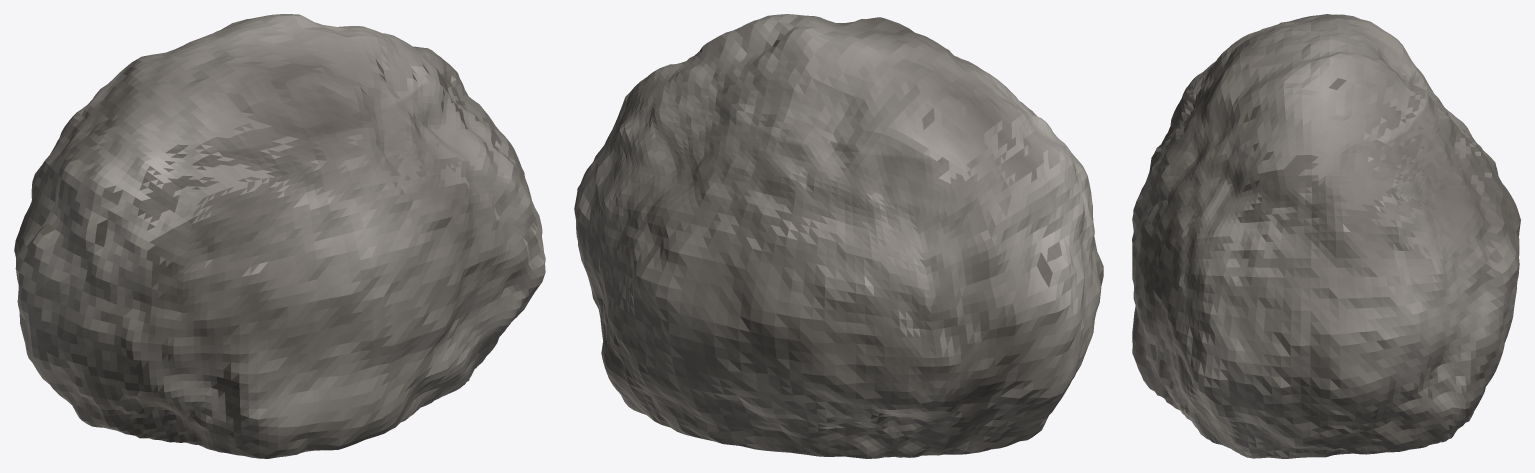
Rendered from bad-small-texture.glb.
3 renders of one model, left to right at view 1: azimuth 30°, elevation 25°; view 2: azimuth 150°, elevation 25°; view 3: azimuth 270°, elevation 25°, orthographic. The views are drawn at different scales.
Parts seen in each view (by area): view 1: scan; view 2: scan; view 3: scan.
Part boxes in pixels (x1=…): scan: x1=14, y1=14, x2=545, y2=458; scan: x1=574, y1=14, x2=1103, y2=458; scan: x1=1132, y1=14, x2=1520, y2=458.
Size of the model in its own units: 2.51 by 1.81 by 1.84.
Materials: 1 (1 with a texture image).
